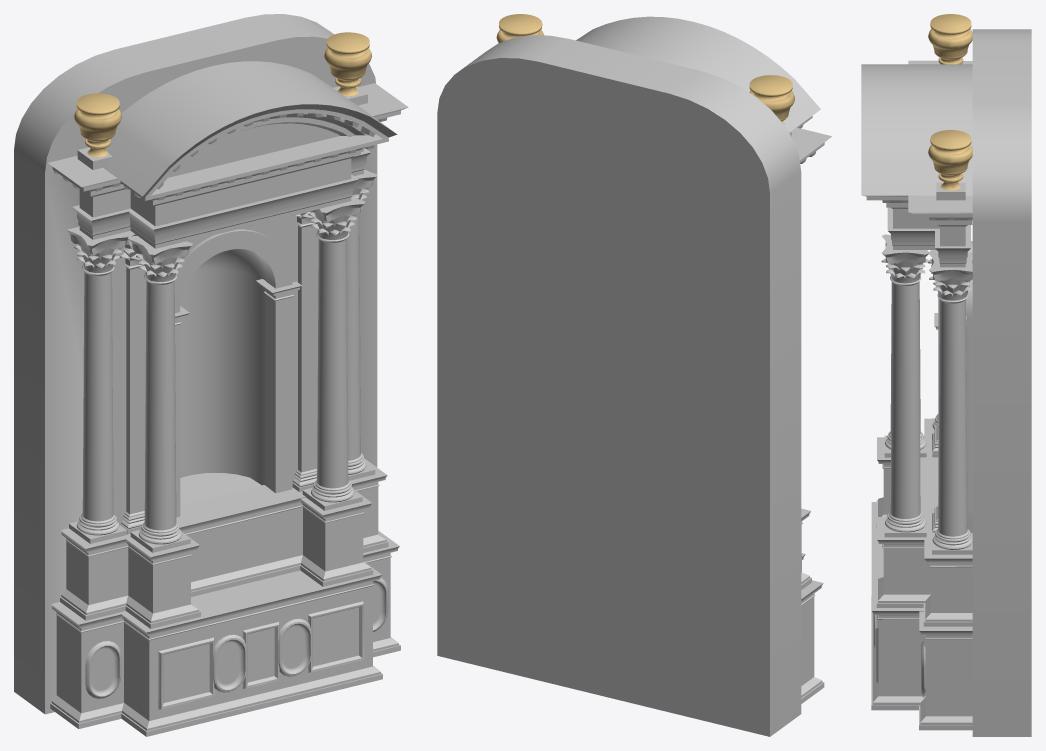
File: Corinthian_Round.fbx
The picture shows the model from 3 angles, left to right: view 1: azimuth 30°, elevation 25°; view 2: azimuth 150°, elevation 25°; view 3: azimuth 270°, elevation 25°; orthographic projection. The views are drawn at different scales.
Visible parts, largest first — view 1: Corinthian_Round; view 2: Corinthian_Round; view 3: Corinthian_Round.
Part boxes in pixels (x1,y1,x2,y2): Corinthian_Round: (14,14,408,736); Corinthian_Round: (437,14,831,736); Corinthian_Round: (861,14,1031,736).
Bounding box in the file's own units: 307 × 547 × 144.
